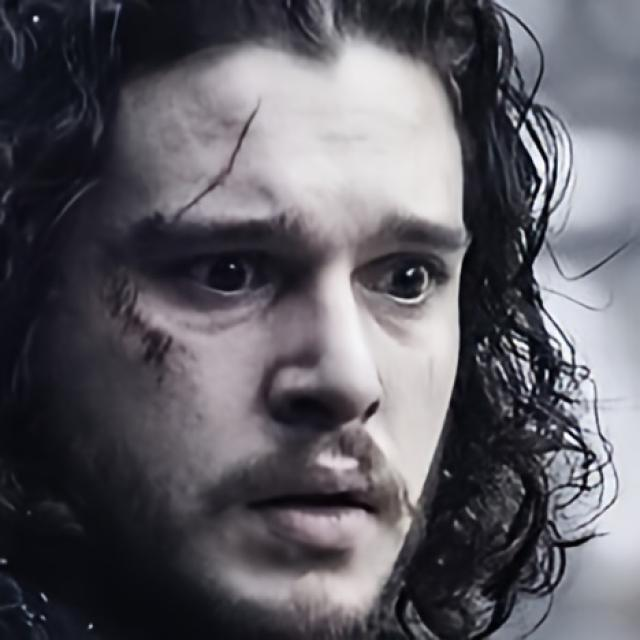fear: (40, 14, 471, 640)
